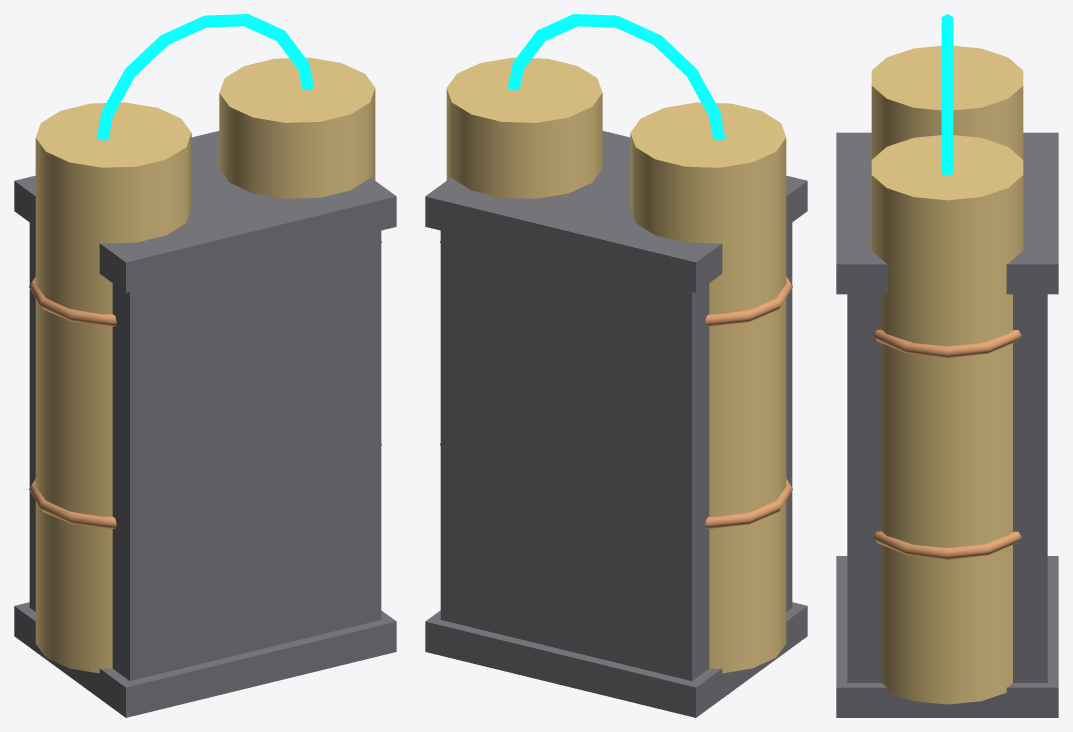
Rendered from tesla_backpack.glb.
3 views of the same model, side by side, from view 1: azimuth 30°, elevation 25°; view 2: azimuth 150°, elevation 25°; view 3: azimuth 270°, elevation 25° (orthographic).
Parts seen in each view (by area): view 1: case, coils, arc, rings; view 2: case, coils, arc, rings; view 3: coils, case, rings, arc.
Part boxes in pixels (<box>): case: <box>14,131,396,717</box>; coils: <box>35,57,375,673</box>; arc: <box>97,14,313,140</box>; rings: <box>29,241,381,528</box>; case: <box>425,131,807,717</box>; coils: <box>446,57,786,673</box>; arc: <box>508,14,724,140</box>; rings: <box>440,241,792,528</box>; coils: <box>871,45,1023,704</box>; case: <box>836,132,1058,717</box>; rings: <box>873,330,1021,559</box>; arc: <box>941,14,953,175</box>.
Size of the model in its own units: 0.342 by 0.621 by 0.2.
